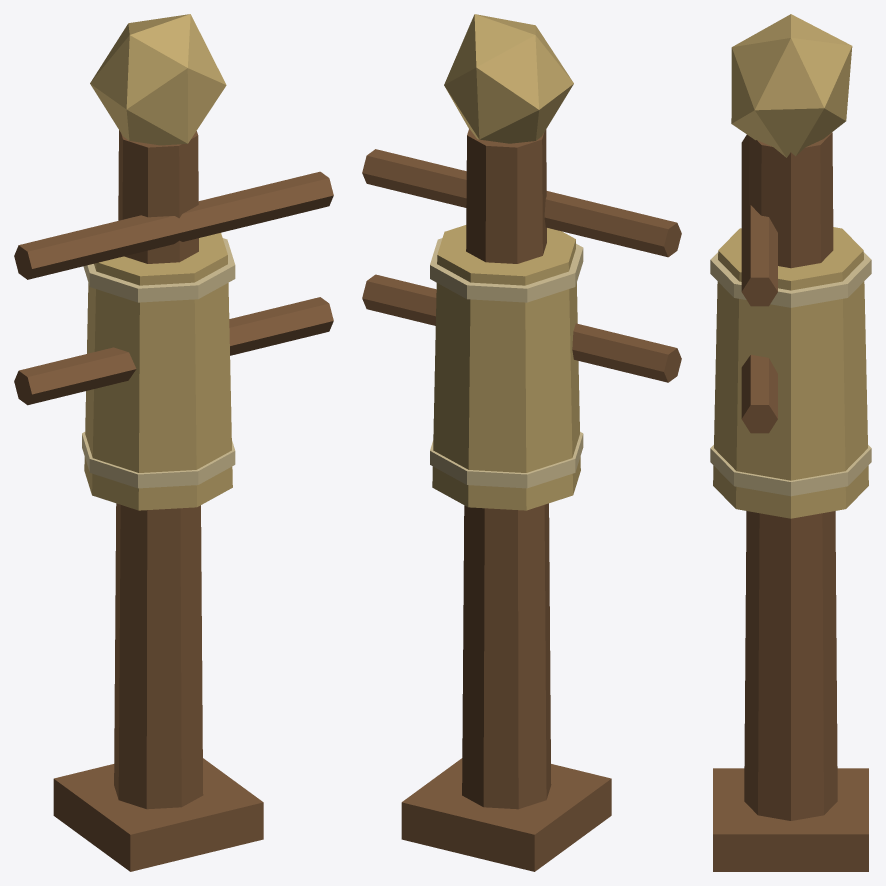
The model's file is jap-boneco-treino.gltf.
3 renders of one model, left to right at view 1: azimuth 30°, elevation 25°; view 2: azimuth 150°, elevation 25°; view 3: azimuth 270°, elevation 25°, orthographic.
Parts seen in each view (by area): view 1: jap-boneco-treino; view 2: jap-boneco-treino; view 3: jap-boneco-treino.
Part boxes in pixels (left/top/right/bottom): jap-boneco-treino: left=14, top=14, right=333, bottom=871; jap-boneco-treino: left=362, top=14, right=681, bottom=871; jap-boneco-treino: left=710, top=14, right=871, bottom=871.
Bounding box in the file's own units: 0.68 × 1.73 × 0.31.
